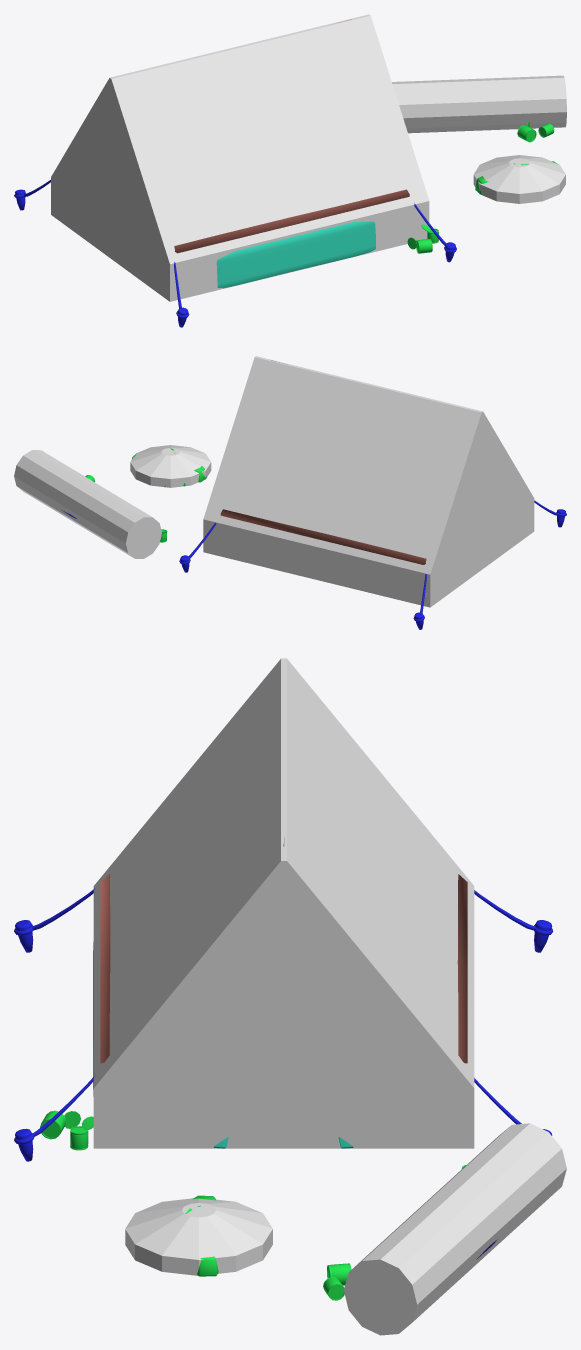
File: Camp.fbx
3 views of the same model, one above another, from view 1: azimuth 30°, elevation 25°; view 2: azimuth 150°, elevation 25°; view 3: azimuth 270°, elevation 25° (orthographic). The views are drawn at different scales.
Visible parts, largest first — view 1: Zelt_Colider, zelt, Bank_Colider, Lagerfeuer_Colider, Bank.001; view 2: Zelt_Colider, Bank_Colider, Lagerfeuer_Colider, zelt; view 3: Zelt_Colider, Bank_Colider, Lagerfeuer_Colider, zelt.
Part boxes in pixels (box(x1,y1,x2,y2)): Zelt_Colider: box(51, 14, 429, 301); zelt: box(14, 19, 456, 327); Bank_Colider: box(392, 75, 566, 133); Lagerfeuer_Colider: box(473, 155, 565, 203); Bank.001: box(517, 122, 554, 142); Zelt_Colider: box(203, 356, 534, 607); Bank_Colider: box(14, 450, 161, 558); Lagerfeuer_Colider: box(130, 445, 211, 487); zelt: box(179, 360, 566, 629); Zelt_Colider: box(93, 658, 474, 1148); Bank_Colider: box(343, 1123, 566, 1335); Lagerfeuer_Colider: box(125, 1198, 272, 1275); zelt: box(14, 837, 553, 1161).
Size of the model in its own units: 1270 by 449 by 749.
